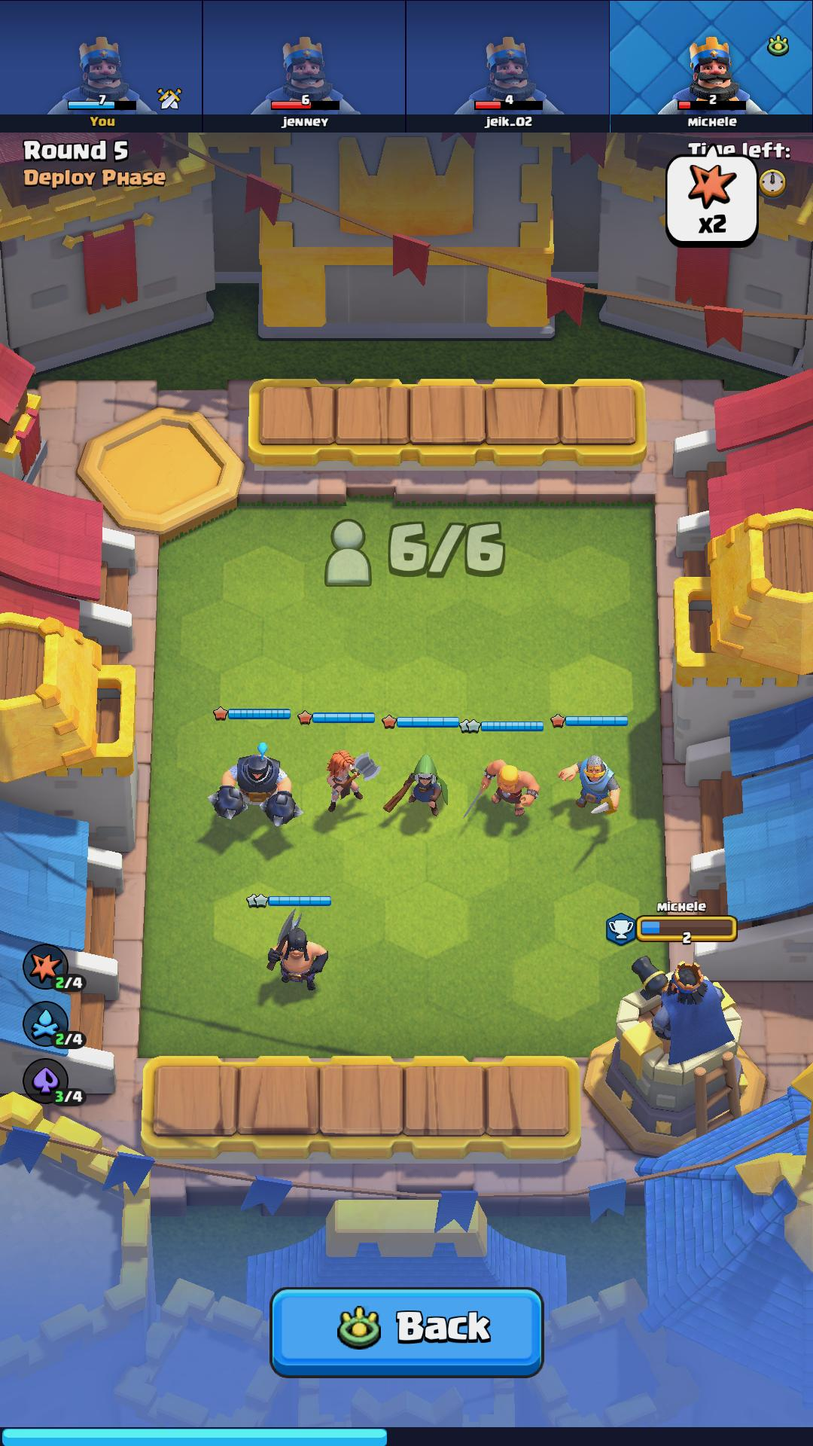bandit: (388, 744, 462, 827)
barbarian: (464, 744, 541, 825)
executioner: (260, 909, 331, 987)
knight: (555, 747, 625, 830)
mega: (203, 743, 302, 830)
valkyrie: (321, 739, 383, 817)
